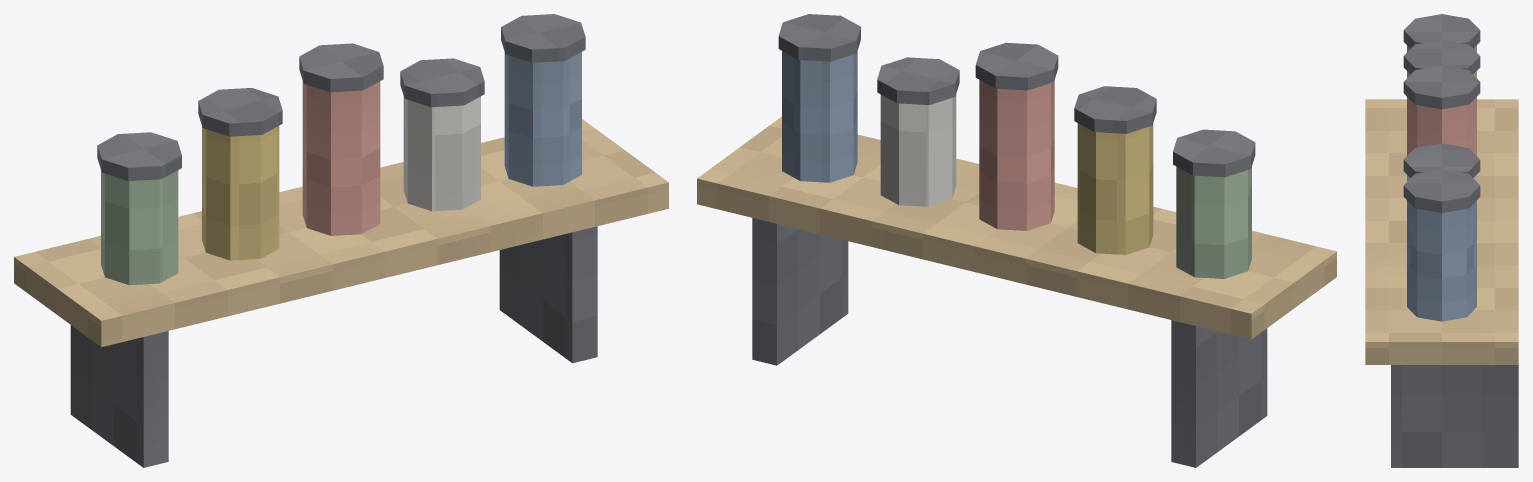
Rendered from pixel-modern-apartments-shelf-with-jars-c9e8cf6d__29818.glb.
The picture shows the model from 3 angles, left to right: view 1: azimuth 30°, elevation 25°; view 2: azimuth 150°, elevation 25°; view 3: azimuth 270°, elevation 25°; orthographic projection. The views are drawn at different scales.
Parts seen in each view (by area): view 1: shelf-with-jars; view 2: shelf-with-jars; view 3: shelf-with-jars.
Boxes of the visible parts, left/top/right/bottom form: shelf-with-jars: left=14, top=14, right=668, bottom=467; shelf-with-jars: left=697, top=14, right=1336, bottom=467; shelf-with-jars: left=1365, top=14, right=1518, bottom=467.
Size of the model in its own units: 0.9 by 0.5 by 0.24.
Materials: 7 (7 with a texture image).
